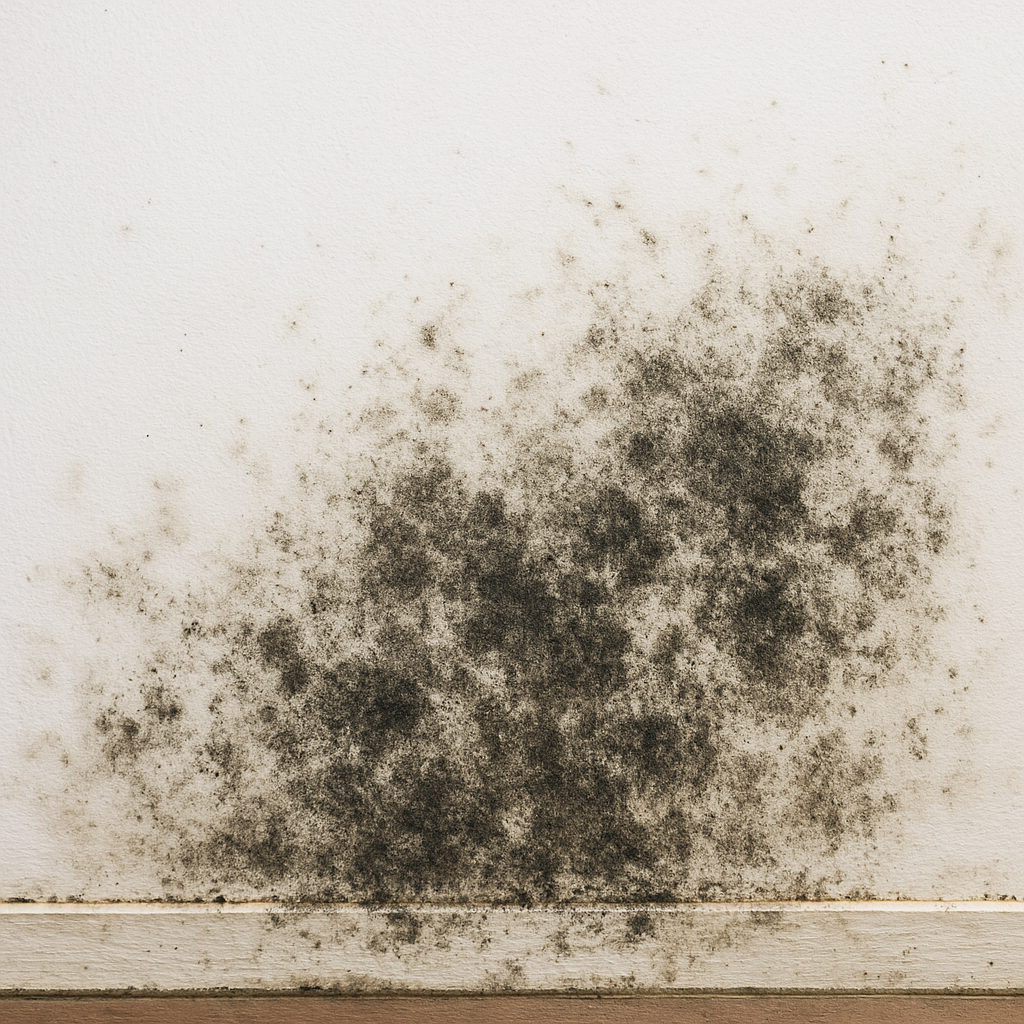schimmel: (693, 402, 869, 657), (488, 465, 628, 700), (521, 703, 693, 874), (346, 758, 482, 881), (310, 631, 432, 746)
